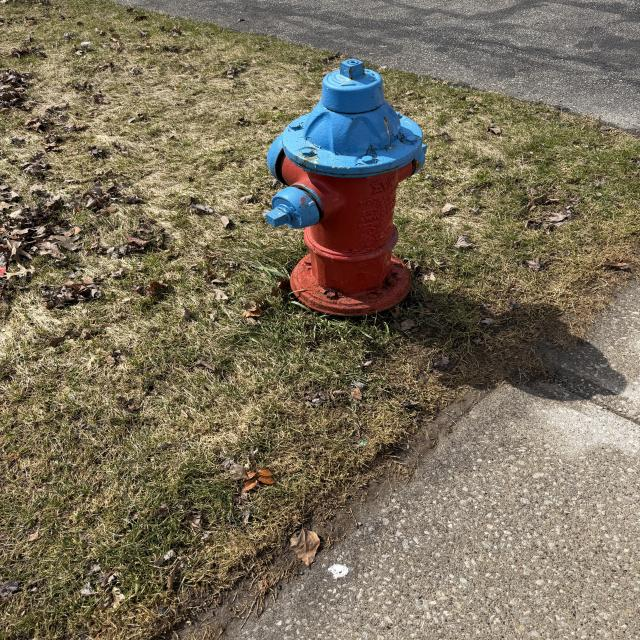Fire hydrant: (265, 58, 427, 317)
